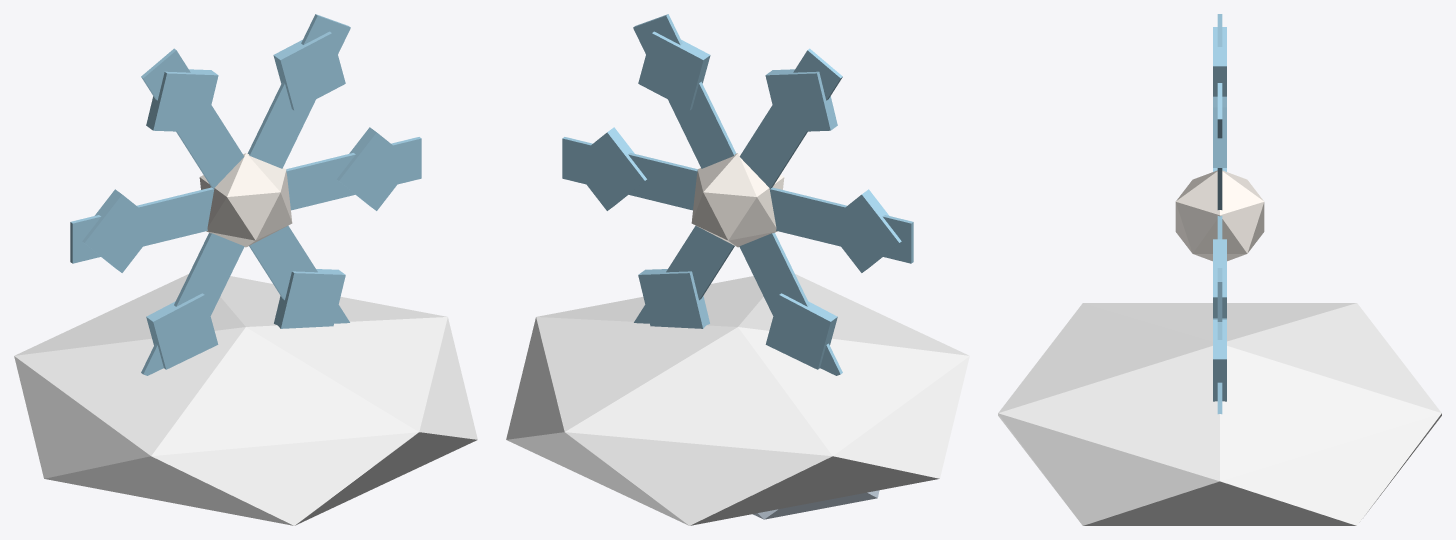
The model's file is CatCafe_Snowglobe_Snowflake.glb.
3 renders of one model, left to right at view 1: azimuth 30°, elevation 25°; view 2: azimuth 150°, elevation 25°; view 3: azimuth 270°, elevation 25°, orthographic.
Parts seen in each view (by area): view 1: CatCafe_Snowglobe_Snowflake, CatCafe_Snowglobe_Snowflake_Glow; view 2: CatCafe_Snowglobe_Snowflake, CatCafe_Snowglobe_Snowflake_Glow; view 3: CatCafe_Snowglobe_Snowflake, CatCafe_Snowglobe_Snowflake_Glow.
Boxes of the visible parts, x1,y1,x2,y2 form: CatCafe_Snowglobe_Snowflake: (14,274,477,525); CatCafe_Snowglobe_Snowflake_Glow: (70,14,421,375); CatCafe_Snowglobe_Snowflake: (506,274,969,525); CatCafe_Snowglobe_Snowflake_Glow: (562,14,913,375); CatCafe_Snowglobe_Snowflake: (998,303,1441,525); CatCafe_Snowglobe_Snowflake_Glow: (1175,14,1264,414).
Bounding box in the file's own units: 1.97 × 2.03 × 1.87.
1 material, 1 textured.
